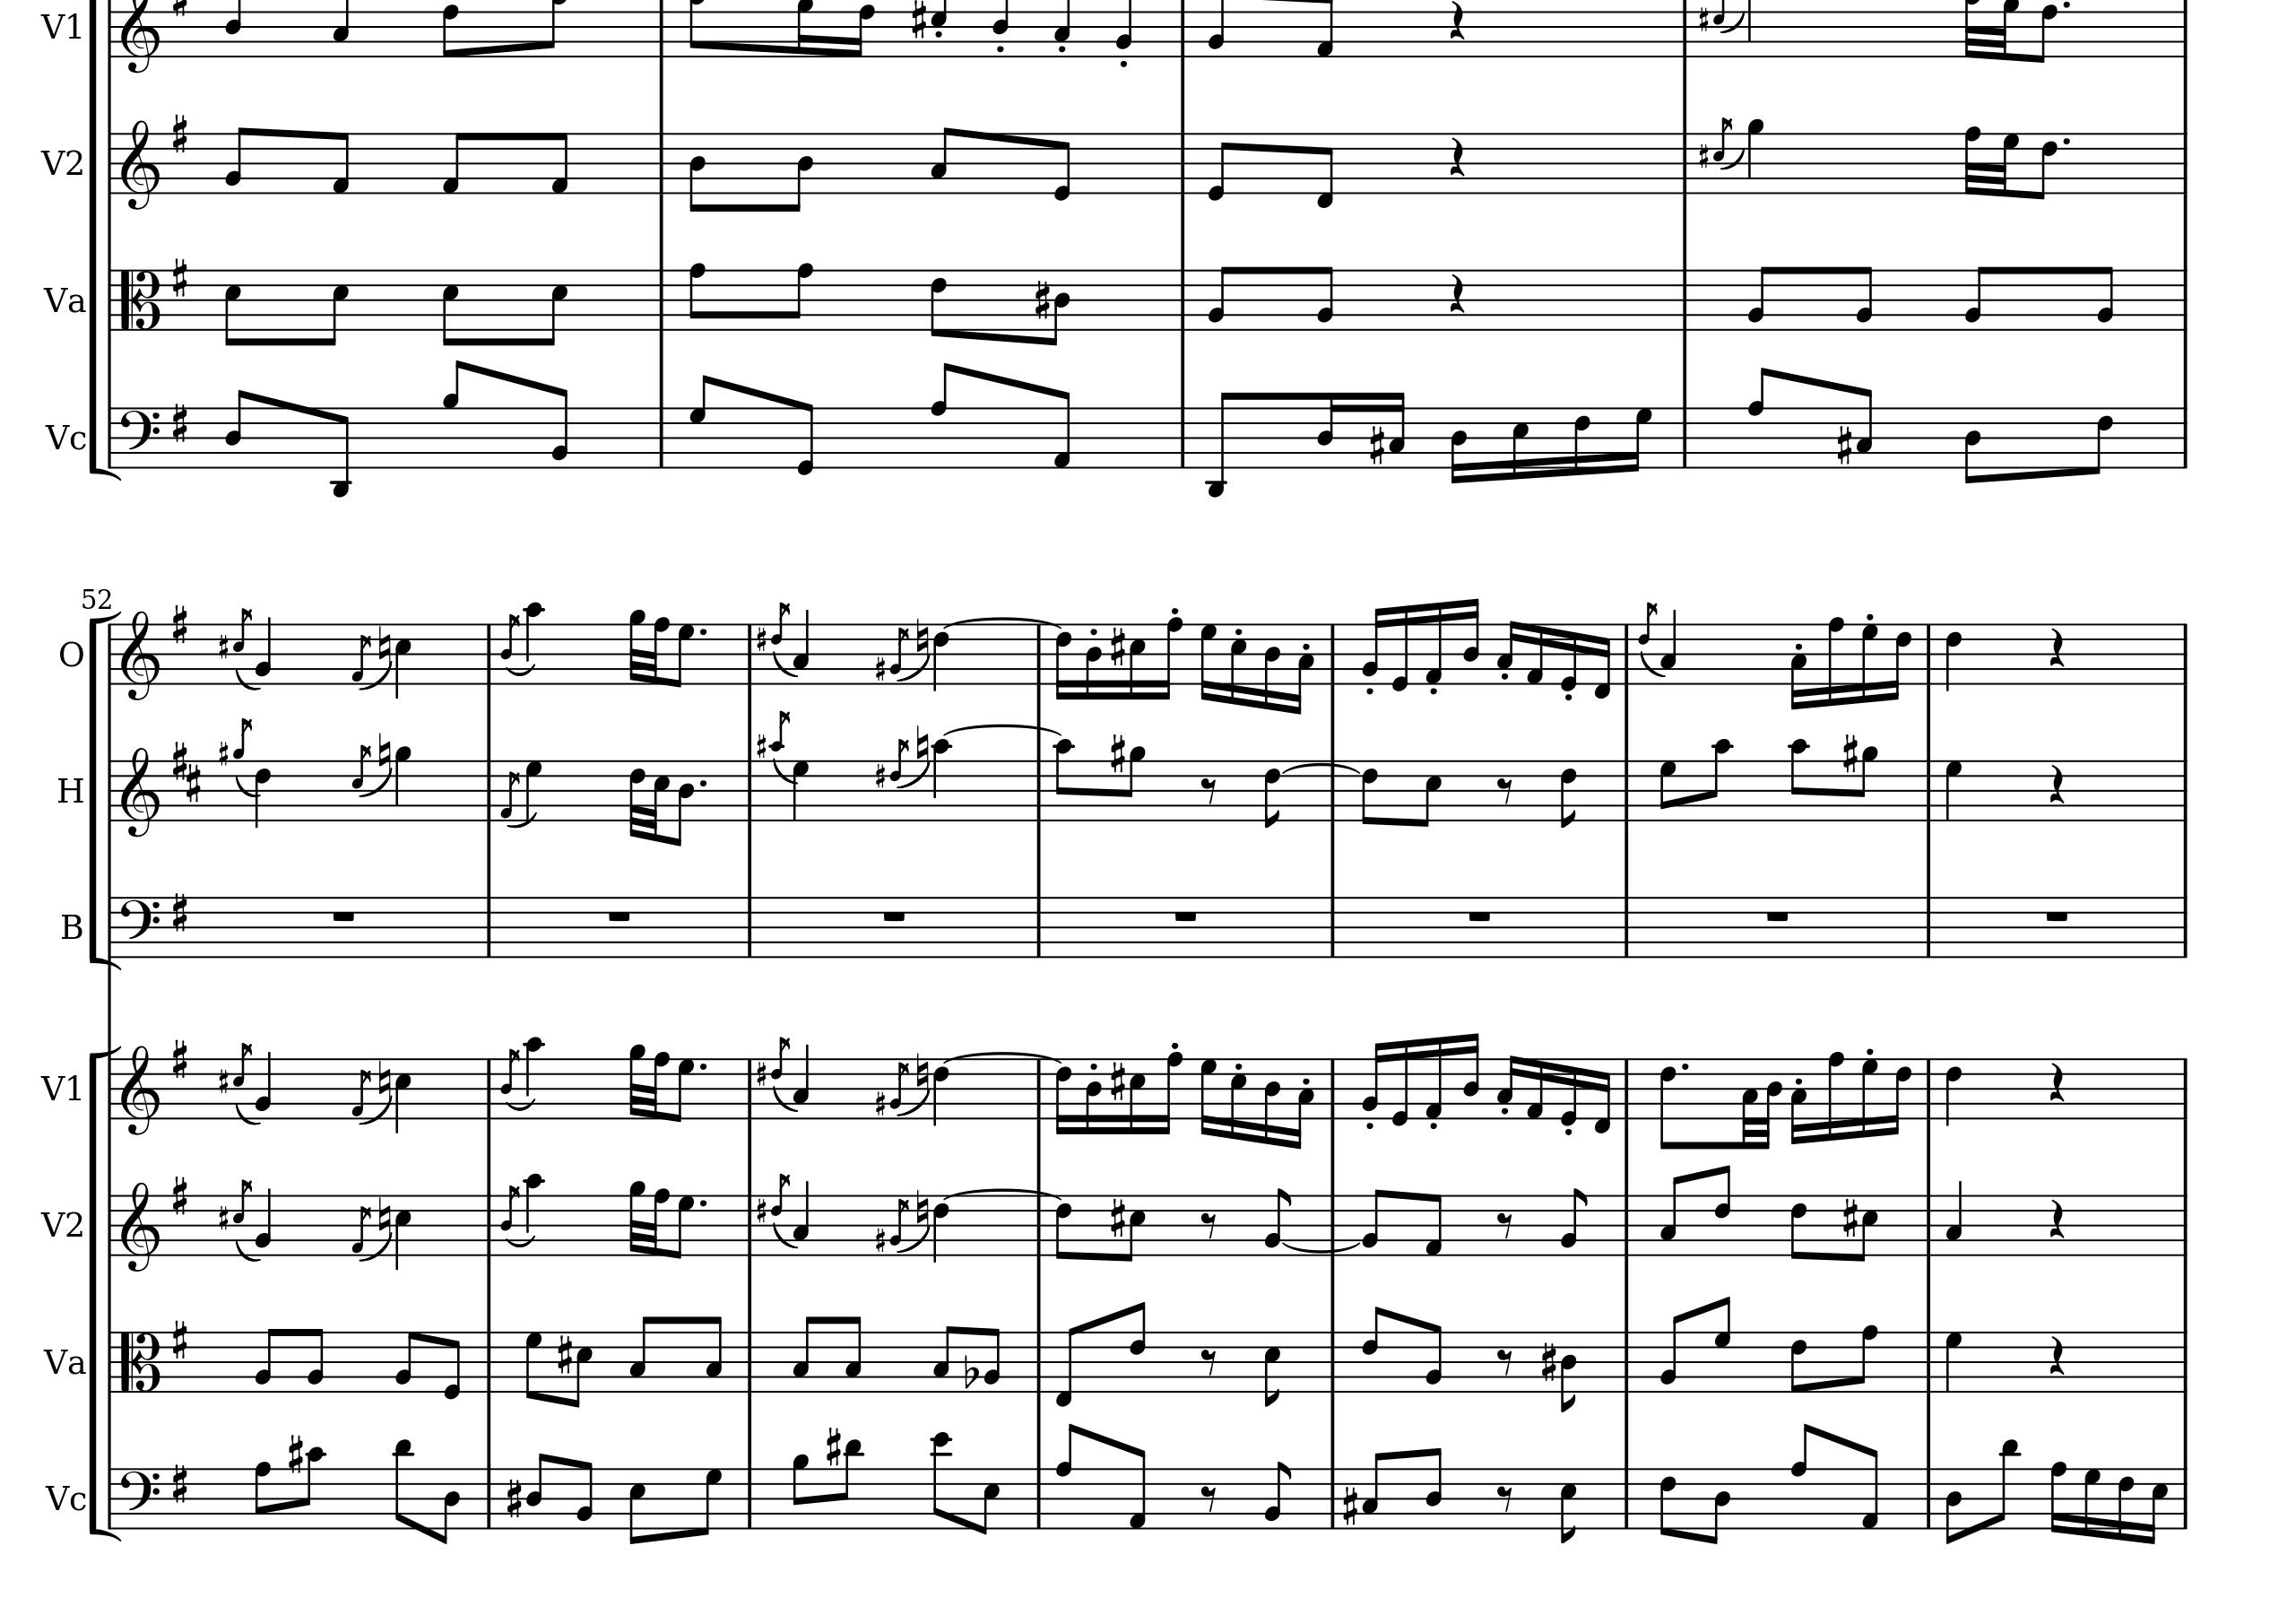16_-1: (1592, 1058, 1613, 1135), (1592, 622, 1613, 698)
16_0: (1390, 603, 1409, 692), (1390, 1037, 1409, 1127), (1558, 622, 1579, 692), (1558, 1056, 1579, 1127)
16_1: (1423, 599, 1444, 687), (1423, 1033, 1444, 1121), (1525, 620, 1546, 685), (1525, 1056, 1546, 1121)
16_2: (1360, 605, 1384, 685), (1360, 1039, 1384, 1120)
16_3: (1289, 622, 1316, 715), (1289, 1056, 1314, 1151), (1495, 1053, 1520, 1120), (1495, 619, 1520, 684), (1790, 622, 1808, 710), (1790, 1058, 1808, 1146), (1388, 390, 1405, 469)
16_4: (1316, 390, 1340, 469), (1261, 622, 1281, 712), (1462, 596, 1481, 685), (1261, 1056, 1281, 1146), (1462, 1030, 1481, 1120), (1449, 406, 1469, 485), (1084, 622, 1103, 701), (1084, 1056, 1103, 1135)
16_5: (2145, 1466, 2170, 1545), (1228, 1056, 1247, 1142), (1228, 622, 1247, 707), (1128, 1056, 1147, 1135), (1128, 622, 1147, 700), (1511, 406, 1530, 480)
16_6: (1887, 620, 1913, 701), (1887, 1056, 1913, 1135), (1054, 1056, 1073, 1135), (1054, 622, 1073, 700), (2117, 1466, 2136, 1541), (1572, 404, 1592, 476)
16_7: (1627, 406, 1653, 473), (1860, 620, 1880, 705), (1198, 620, 1217, 703), (1198, 1056, 1217, 1137), (1860, 1056, 1880, 1137), (2083, 1464, 2101, 1538)
16_8: (1156, 613, 1184, 701), (1156, 1049, 1184, 1135), (1827, 613, 1846, 708), (1825, 1049, 1845, 1142), (2048, 1459, 2068, 1533)
2: (97, 587, 112, 608)
32_3: (1739, 1056, 1758, 1149)
32_4: (1760, 1056, 1783, 1151)
32_5: (646, 759, 669, 840)
32_6: (627, 758, 646, 838)
32_7: (1994, 130, 2020, 197)
32_8: (648, 613, 669, 687), (648, 1049, 669, 1121), (648, 1186, 669, 1258), (1964, 125, 1982, 197)
32_9: (627, 606, 646, 685), (627, 1179, 646, 1258), (627, 1042, 646, 1120)
4_10: (523, 1033, 545, 1121), (523, 599, 545, 685), (931, 736, 952, 823), (523, 1171, 545, 1257)
4_2: (255, 617, 274, 687), (255, 1049, 272, 1121), (255, 1186, 272, 1258)
4_3: (1943, 1178, 1964, 1257), (1658, 608, 1678, 685), (792, 1179, 812, 1257), (792, 1042, 810, 1121), (792, 608, 810, 685)
4_5: (393, 622, 413, 700), (393, 1056, 413, 1134), (393, 1193, 413, 1271)
4_6: (1943, 620, 1962, 692), (253, 758, 272, 828), (931, 1056, 950, 1127), (1943, 1056, 1962, 1127), (931, 1193, 950, 1264), (931, 622, 950, 691)
4_7: (791, 759, 812, 823), (1943, 759, 1964, 823), (1945, 1330, 1964, 1392)
4_9: (393, 743, 413, 823)
5: (79, 585, 95, 610)
8_-1: (1054, 1323, 1082, 1408), (1316, 130, 1335, 209)
8_-3: (1205, 390, 1235, 497), (329, 406, 353, 497)
8_0: (1207, 130, 1233, 200), (794, 399, 815, 476), (1052, 130, 1072, 202), (443, 1330, 462, 1401)
8_1: (1859, 1443, 1880, 1531), (1051, 387, 1072, 471), (441, 130, 467, 195), (1128, 1443, 1147, 1531), (548, 130, 571, 195), (330, 130, 351, 195), (1423, 1192, 1444, 1257)
8_10: (1704, 736, 1734, 823), (299, 1445, 327, 1529), (1787, 736, 1811, 823), (1052, 736, 1075, 823)
8_11: (1989, 1438, 2020, 1531), (836, 1436, 864, 1529), (392, 1438, 415, 1531)
8_12: (929, 1427, 954, 1531)
8_2: (1658, 1311, 1685, 1394), (1558, 1186, 1588, 1257), (1964, 265, 1994, 332), (1263, 1186, 1291, 1257), (1263, 1461, 1291, 1529), (1746, 265, 1774, 332), (550, 385, 571, 471), (1360, 1188, 1386, 1257), (1207, 265, 1233, 332), (253, 1327, 279, 1394), (225, 125, 249, 195), (393, 1329, 418, 1394), (1423, 1320, 1444, 1394), (2094, 264, 2115, 332), (1853, 265, 1874, 332), (982, 1325, 1003, 1392), (574, 1459, 594, 1531), (1316, 265, 1335, 332), (306, 1327, 325, 1394)
8_3: (627, 1313, 655, 1394), (1658, 1172, 1685, 1257), (791, 1313, 817, 1392), (1361, 1450, 1388, 1529), (1853, 385, 1876, 469), (929, 125, 956, 195), (931, 1323, 956, 1394), (704, 1313, 724, 1394), (843, 1313, 863, 1394)
8_4: (223, 387, 251, 469), (789, 130, 815, 213), (436, 1466, 462, 1545), (673, 759, 696, 847), (1047, 267, 1072, 346), (525, 1450, 550, 1529), (1706, 1466, 1730, 1545), (1423, 1445, 1444, 1529), (687, 130, 708, 213), (1558, 1329, 1579, 1411), (1943, 1466, 1964, 1545), (1962, 406, 1982, 485)
8_5: (543, 267, 569, 348), (325, 267, 351, 346), (569, 1329, 594, 1408), (1853, 1192, 1880, 1264), (1416, 758, 1442, 828), (1123, 1192, 1147, 1264), (977, 1466, 1001, 1534), (223, 267, 242, 348), (441, 267, 460, 346), (627, 1466, 646, 1545), (1558, 1466, 1578, 1543), (1263, 1329, 1281, 1406)
8_6: (1360, 1304, 1388, 1394), (1711, 1162, 1732, 1257), (2085, 406, 2113, 475), (1658, 1056, 1678, 1151), (1128, 1299, 1147, 1394), (2034, 130, 2059, 200), (1658, 1466, 1678, 1538), (929, 267, 949, 337), (1558, 759, 1578, 828), (1054, 1192, 1073, 1260), (1788, 1193, 1808, 1262), (1360, 758, 1379, 824), (1263, 758, 1281, 830), (1788, 1329, 1808, 1394)
8_7: (687, 371, 713, 469), (1713, 1295, 1732, 1394), (696, 1466, 722, 1536), (671, 622, 696, 687), (671, 1058, 696, 1123), (671, 1193, 696, 1258), (523, 1330, 543, 1401), (523, 759, 543, 824), (1658, 759, 1678, 823)
8_8: (928, 360, 957, 469), (1788, 1422, 1816, 1529), (1746, 366, 1774, 471), (1054, 1422, 1080, 1529), (787, 260, 813, 330), (1852, 1323, 1878, 1392), (687, 260, 708, 332), (251, 1459, 272, 1529)
8_9: (441, 357, 467, 469), (1121, 743, 1147, 823), (1852, 745, 1878, 823), (1744, 116, 1765, 195), (791, 1452, 810, 1529)
Acciaccature: (86, 608, 123, 974), (768, 710, 796, 823), (771, 1035, 794, 1120), (769, 1172, 792, 1257), (1715, 114, 1739, 192), (769, 601, 792, 684), (1637, 603, 1660, 685), (232, 715, 251, 812), (232, 1040, 255, 1121), (499, 1183, 523, 1257), (891, 736, 912, 819), (232, 1176, 253, 1258), (232, 605, 253, 684), (351, 743, 372, 819), (351, 622, 372, 685), (351, 1058, 372, 1121), (891, 1195, 912, 1257), (351, 1195, 371, 1258), (892, 629, 912, 684), (891, 1060, 908, 1118)
Bracke: (84, 1039, 121, 1550), (86, 2, 121, 482)
Cclef: (118, 267, 162, 330), (118, 1329, 162, 1392)
D_S: (169, 740, 202, 803)
Fclef: (118, 895, 162, 960), (119, 404, 162, 469), (118, 1466, 160, 1529)
Flat: (963, 1352, 978, 1390)
Gclef: (119, 1044, 162, 1135), (119, 116, 160, 211), (119, 745, 160, 840), (119, 1179, 160, 1272), (119, 608, 160, 700)
Natural: (913, 615, 929, 661), (913, 1186, 929, 1232), (376, 731, 392, 775), (913, 722, 929, 766), (913, 1051, 929, 1095), (376, 1193, 392, 1237), (376, 1058, 392, 1100), (376, 624, 392, 664)
Rests1: (329, 907, 358, 924), (604, 907, 634, 924), (1762, 907, 1792, 924), (880, 907, 908, 924), (2043, 907, 2071, 924), (1172, 907, 1200, 923), (1465, 907, 1493, 923)
Rests4: (2047, 763, 2068, 807), (2047, 1334, 2068, 1378), (1448, 271, 1467, 316), (2047, 626, 2066, 670), (2047, 1197, 2066, 1241), (1448, 135, 1467, 178), (2047, 1062, 2066, 1104), (1448, 2, 1465, 40)
Rests8: (1198, 775, 1219, 807), (1198, 1482, 1219, 1513), (1198, 1346, 1219, 1376), (1495, 775, 1514, 805), (1200, 1209, 1219, 1239), (1495, 1209, 1514, 1239), (1495, 1346, 1514, 1376), (1495, 1483, 1514, 1512)
Sharp: (169, 111, 191, 155), (169, 889, 190, 935), (169, 255, 190, 299), (169, 401, 190, 445), (169, 1037, 190, 1081), (169, 1172, 190, 1216), (169, 1462, 190, 1506), (1108, 624, 1128, 670), (169, 1316, 188, 1360), (502, 1476, 522, 1520), (1108, 1058, 1126, 1104), (1834, 424, 1852, 468), (1108, 731, 1126, 775), (1841, 731, 1859, 775), (1108, 1195, 1126, 1239), (1841, 1195, 1859, 1239), (555, 1332, 573, 1376), (1539, 1339, 1556, 1383), (824, 1424, 841, 1468), (1340, 1482, 1358, 1526), (1033, 278, 1051, 320), (170, 603, 188, 645), (286, 1432, 304, 1475), (1368, 422, 1384, 468), (910, 2, 928, 40), (1697, 141, 1711, 170), (754, 624, 768, 654), (873, 652, 887, 682), (754, 731, 768, 761), (754, 1195, 768, 1225), (873, 1225, 887, 1255), (873, 761, 887, 789), (216, 1067, 230, 1095), (754, 1060, 768, 1088), (216, 1204, 230, 1232), (218, 736, 230, 766), (873, 1088, 885, 1118)
Single_barline: (1674, 269, 1695, 329), (1674, 406, 1693, 468), (652, 134, 671, 193), (1173, 134, 1193, 193), (1674, 134, 1693, 193), (652, 269, 671, 329), (1173, 269, 1193, 329), (2175, 406, 2192, 468), (741, 759, 759, 821), (1920, 759, 1938, 821), (1325, 761, 1342, 823), (1173, 2, 1193, 56), (2175, 134, 2192, 193), (2175, 269, 2192, 329), (653, 406, 671, 466), (1618, 761, 1635, 821), (1029, 896, 1047, 956), (1618, 1195, 1635, 1255), (1920, 1195, 1938, 1255), (1618, 1330, 1635, 1390), (1029, 1468, 1047, 1527), (481, 1193, 497, 1255), (653, 2, 671, 56), (102, 269, 118, 329), (1175, 406, 1191, 466), (481, 624, 497, 684), (1325, 624, 1340, 684), (1920, 624, 1936, 684), (2177, 624, 2192, 684), (1618, 624, 1634, 684), (481, 759, 497, 819), (1031, 759, 1047, 819), (2177, 761, 2192, 821), (741, 896, 757, 956), (1325, 896, 1340, 956), (1618, 896, 1634, 956), (1920, 896, 1936, 956), (2177, 896, 2192, 956), (104, 1058, 119, 1118), (481, 1058, 497, 1118), (1325, 1058, 1340, 1118), (1920, 1058, 1936, 1118), (2177, 1058, 2192, 1118), (2177, 1195, 2192, 1255), (102, 1330, 118, 1390), (741, 1330, 757, 1390), (1031, 1330, 1047, 1390), (1325, 1330, 1340, 1390), (1922, 1330, 1938, 1390), (741, 1468, 757, 1527), (1325, 1468, 1340, 1527), (1618, 1468, 1634, 1527), (1920, 1468, 1936, 1527), (2177, 1468, 2192, 1527), (1618, 1060, 1634, 1118), (741, 1060, 757, 1118), (1031, 1060, 1047, 1118), (2177, 1332, 2192, 1390), (1031, 626, 1047, 682), (104, 759, 118, 821), (2177, 2, 2192, 56), (1676, 2, 1692, 56), (104, 134, 118, 193), (104, 408, 118, 468), (104, 624, 118, 684), (104, 896, 118, 956), (481, 896, 495, 956), (104, 1195, 118, 1255), (743, 1195, 757, 1255), (481, 1330, 495, 1390), (481, 1468, 495, 1527), (104, 1468, 118, 1527), (743, 624, 757, 682), (1325, 1195, 1339, 1253), (1033, 1199, 1047, 1255), (104, 5, 118, 56)
Slur: (942, 1049, 1066, 1063), (940, 722, 1063, 736), (942, 615, 1063, 629), (942, 1186, 1063, 1199), (501, 1046, 522, 1116), (502, 612, 522, 685), (501, 770, 523, 823), (1281, 763, 1361, 775), (894, 765, 928, 793), (894, 656, 929, 682), (771, 649, 799, 680), (771, 1083, 799, 1114), (771, 1220, 799, 1251), (353, 773, 386, 800), (894, 1091, 928, 1118), (355, 1100, 390, 1125), (894, 1229, 929, 1253), (1281, 1241, 1360, 1251), (1718, 146, 1744, 176), (769, 758, 799, 784), (358, 666, 390, 689), (357, 1241, 390, 1262), (232, 773, 258, 798), (234, 666, 262, 689), (234, 1102, 262, 1125), (234, 1239, 262, 1260), (502, 1098, 538, 1114), (502, 1234, 536, 1250), (502, 664, 536, 678), (504, 816, 536, 828)
dot: (1678, 1060, 1692, 1074), (2061, 135, 2073, 148), (697, 626, 708, 638), (697, 777, 708, 789), (697, 1060, 708, 1072), (697, 1197, 708, 1209), (2061, 2, 2071, 11)
